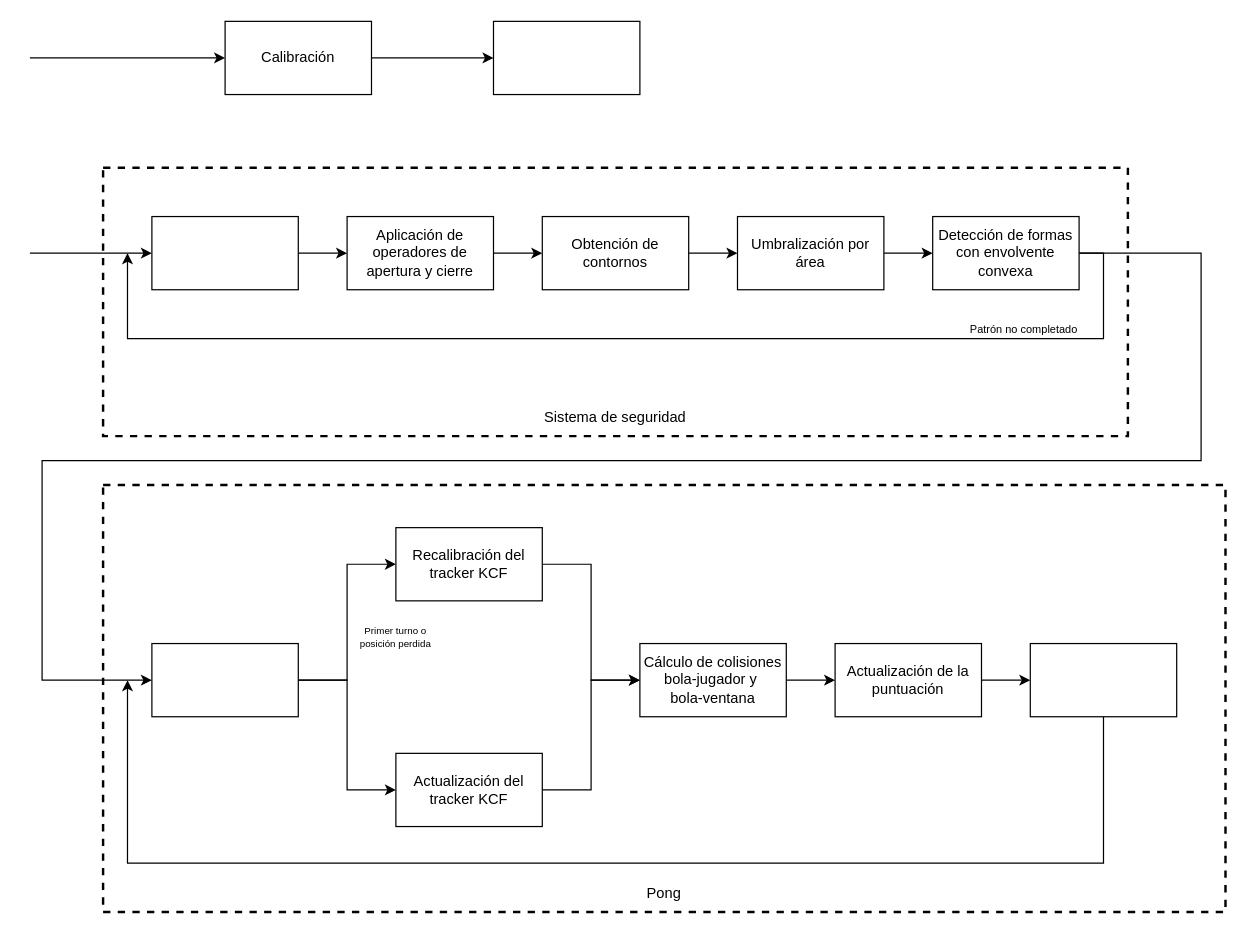
Image size: 1248x935. Some labels were removed from this diagram. The shapes that lost their labels are listed below. From the top down, each one's box as (x1, y1, x2, y2) in pixels, then its label:
(492, 20, 640, 95): Parámetros almacenados
(151, 215, 298, 290): Aplicación de máscaras de color
(151, 642, 298, 717): Aplicación de máscara posicional
(1029, 642, 1177, 717): Jugador máquina actualiza posición
